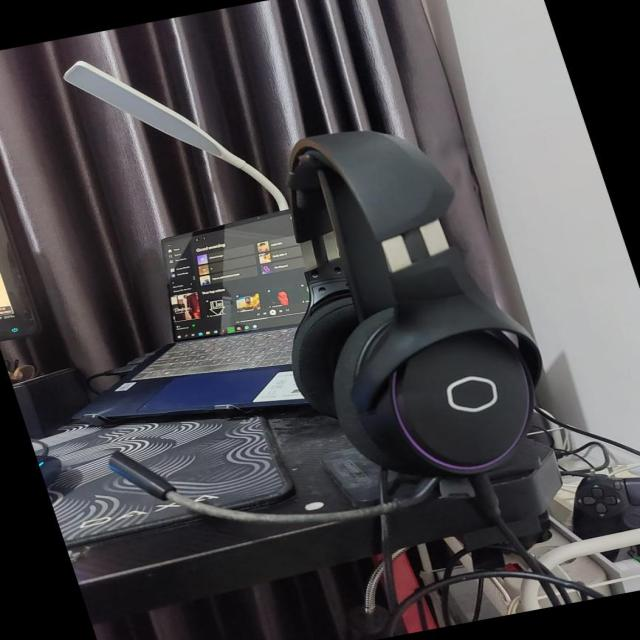earphone: (277, 122, 567, 477)
laptop_computer: (136, 214, 322, 427)
